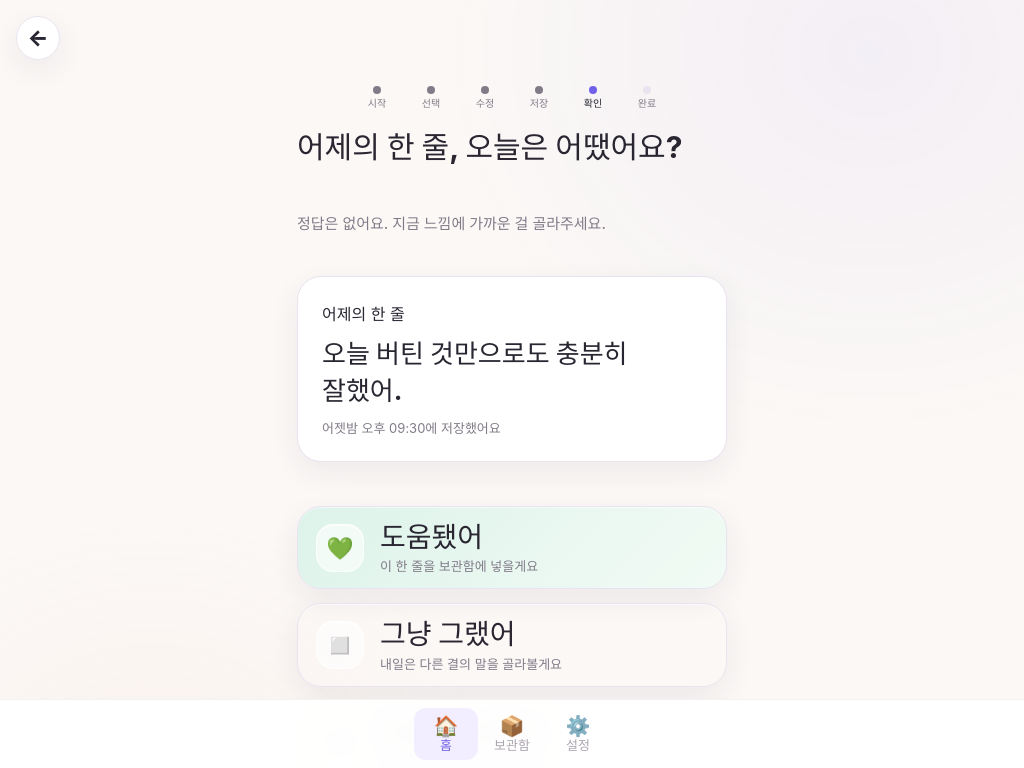
Test case: 내편한마디 v0.5: AI candidate flow + local persistence + i18n › renders check-in result and reopen source labels in both locales
Check: the heading "어제의 한 줄, 오늘은 어땠어요?" is shown, box [297,128,727,167]
Step 1. Click the button "💚 도움됐어 이 한 줄을 보관함에 넣을게요" → (340, 548), box [297,506,727,589]
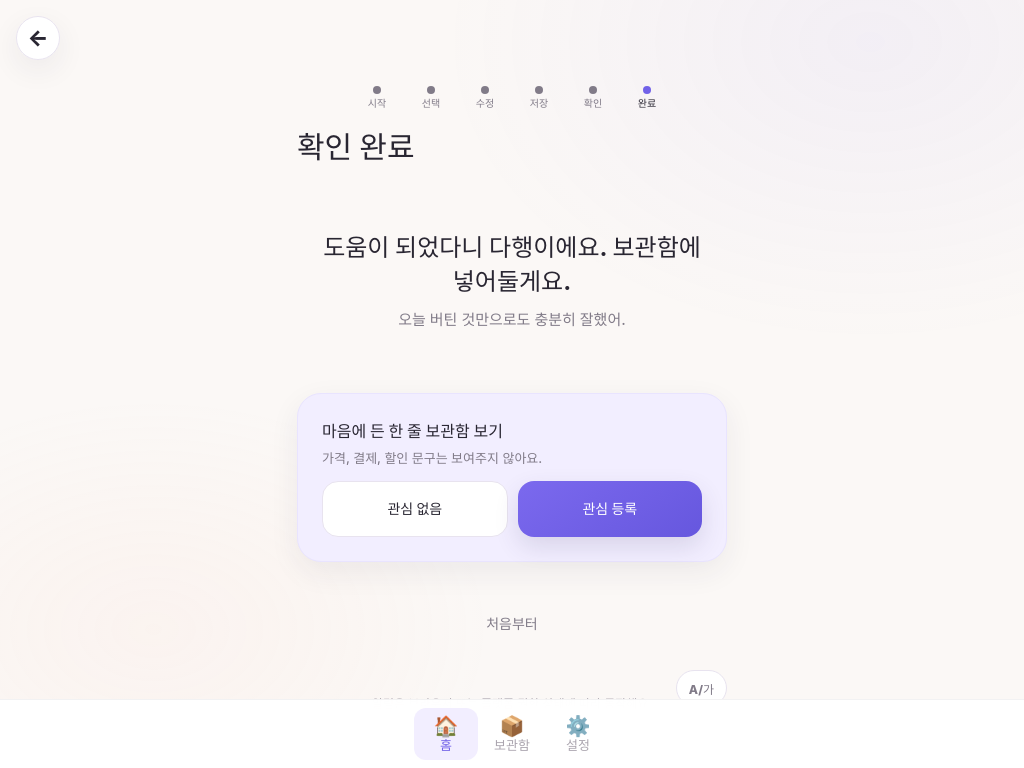
Check: the heading "확인 완료" is shown, box [297,129,414,165]
Check: the text "마음에 든 한 줄 보관함 보기" is shown, box [322,421,503,441]
Step 2. Click the button "A/가" → (701, 688), box [676,670,727,706]
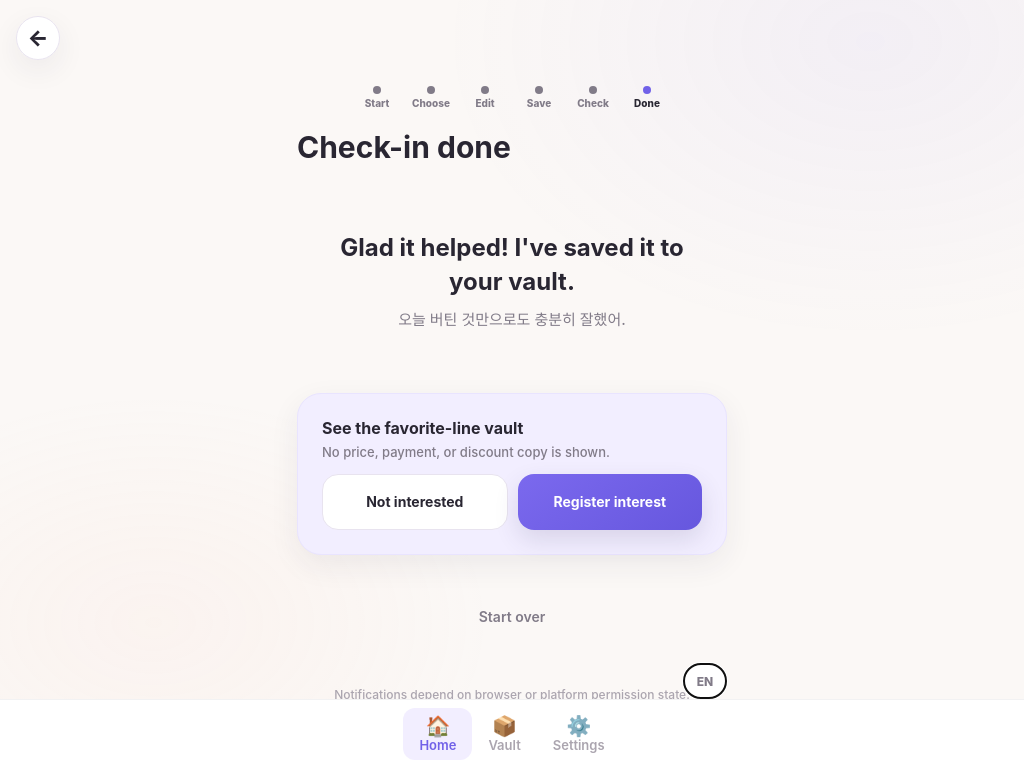
Check: the heading "Check-in done" is shown, box [297,129,511,165]
Check: the text "See the favorite-line vault" is shown, box [322,418,523,438]
